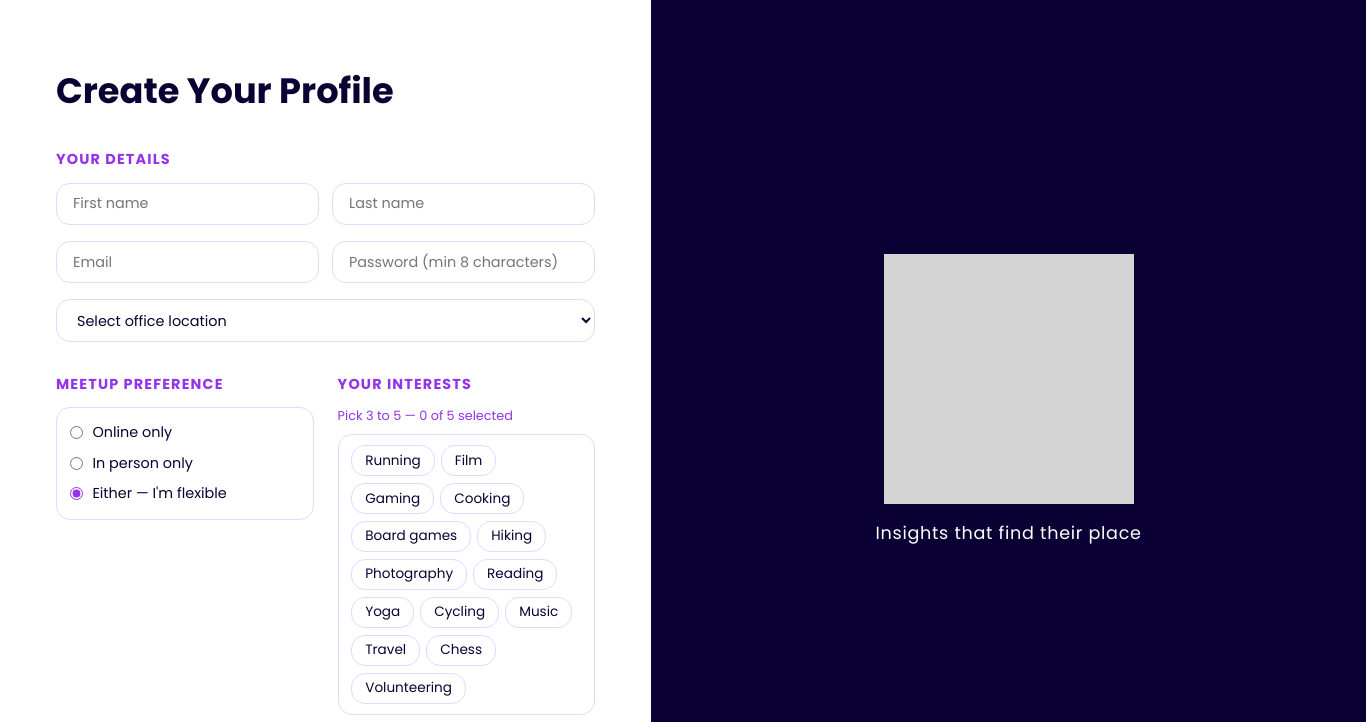
Test: SignUp component › shows error if password too short
The image size is (1366, 722).
Type "John" into the field with placeholder "First name" at x=188, y=204, box [56, 183, 319, 225]
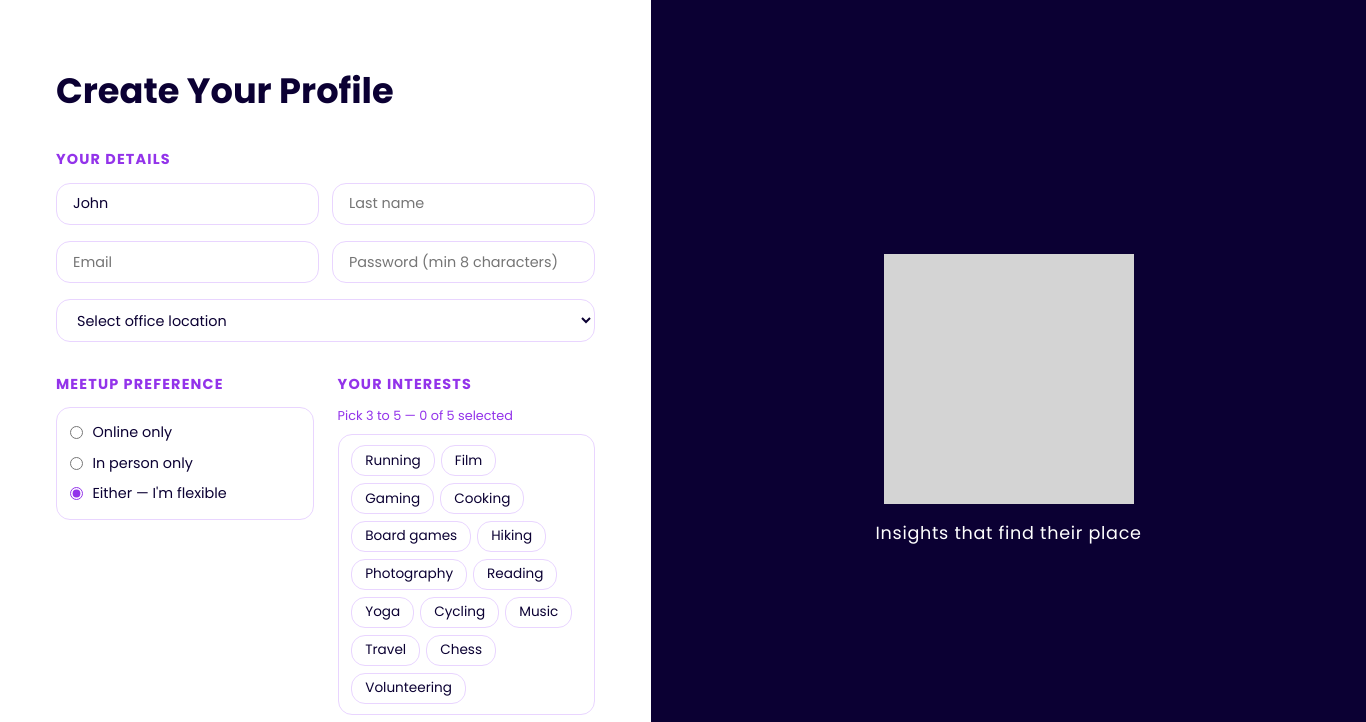
Type "Doe" into the field with placeholder "Last name" at x=464, y=204, box [332, 183, 595, 225]
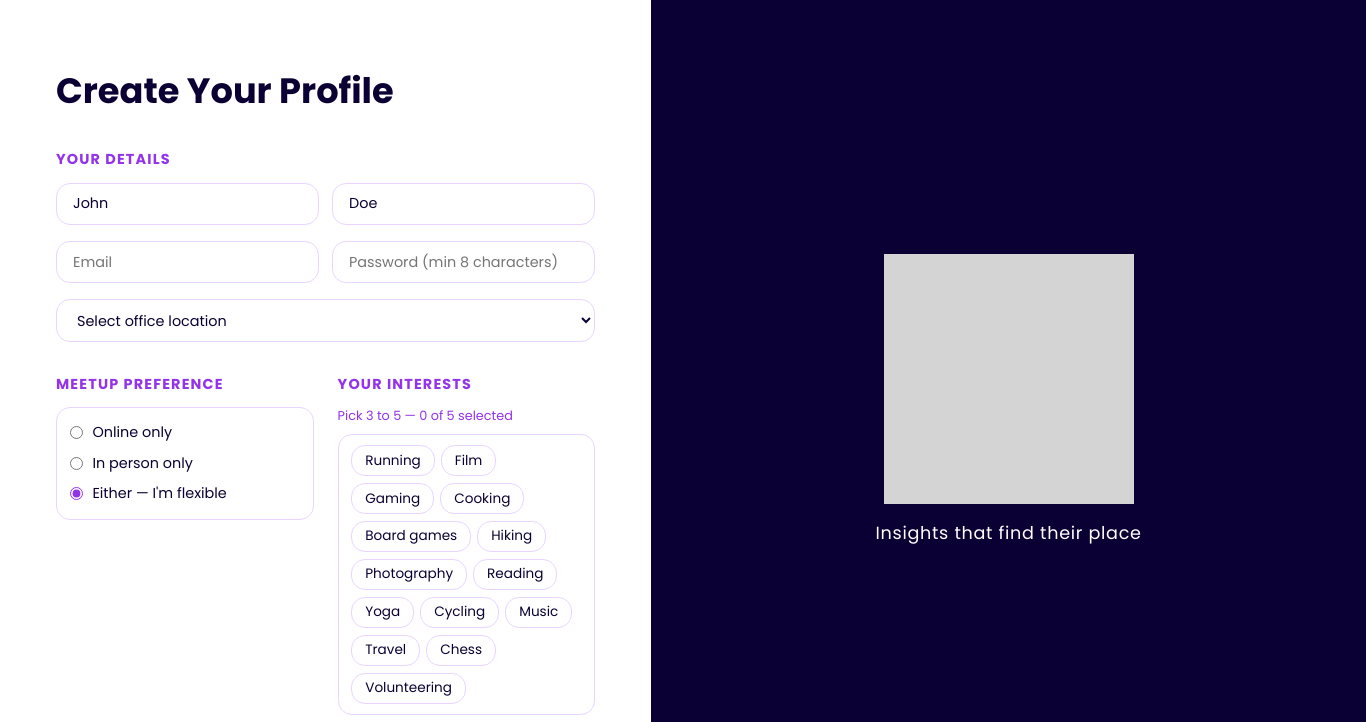
Type "john@test.com" into the field with placeholder "Email" at x=188, y=262, box [56, 241, 319, 283]
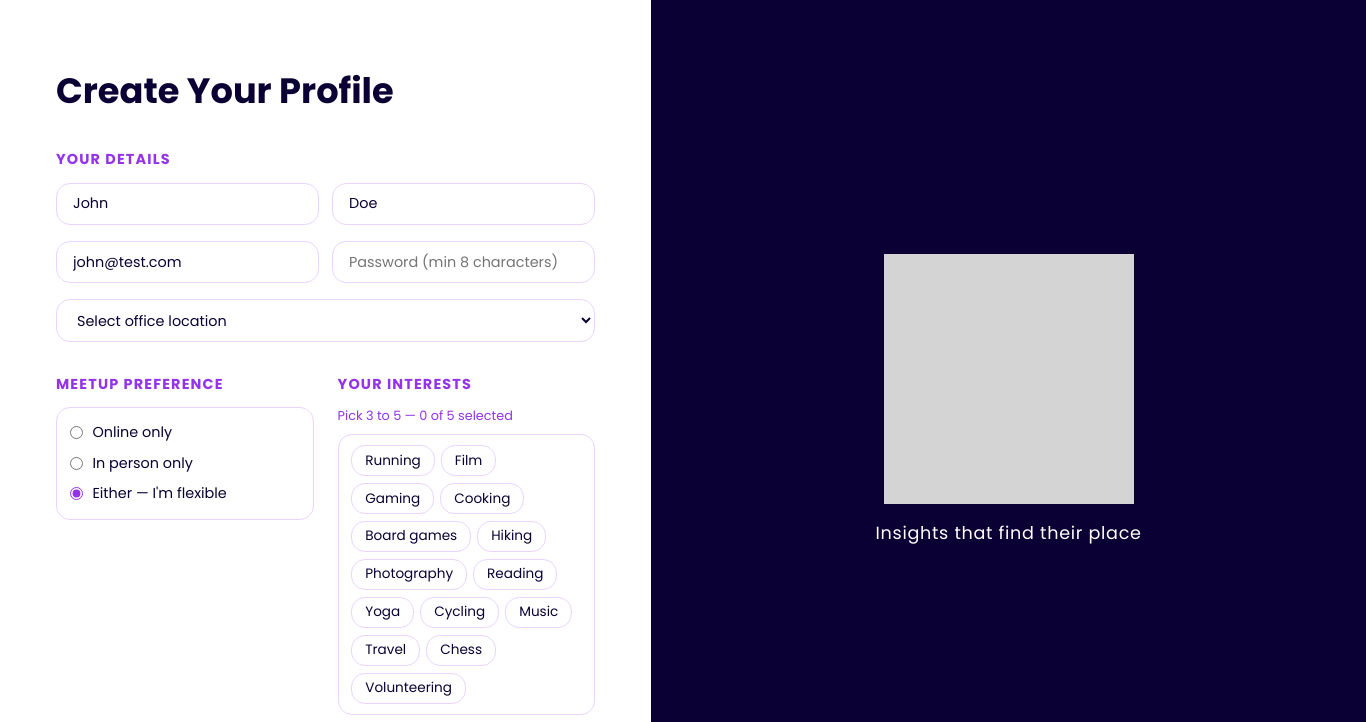
Type "123" into the password field with placeholder "Password (min 8 characters)" at x=464, y=262, box [332, 241, 595, 283]
(page scrolled)
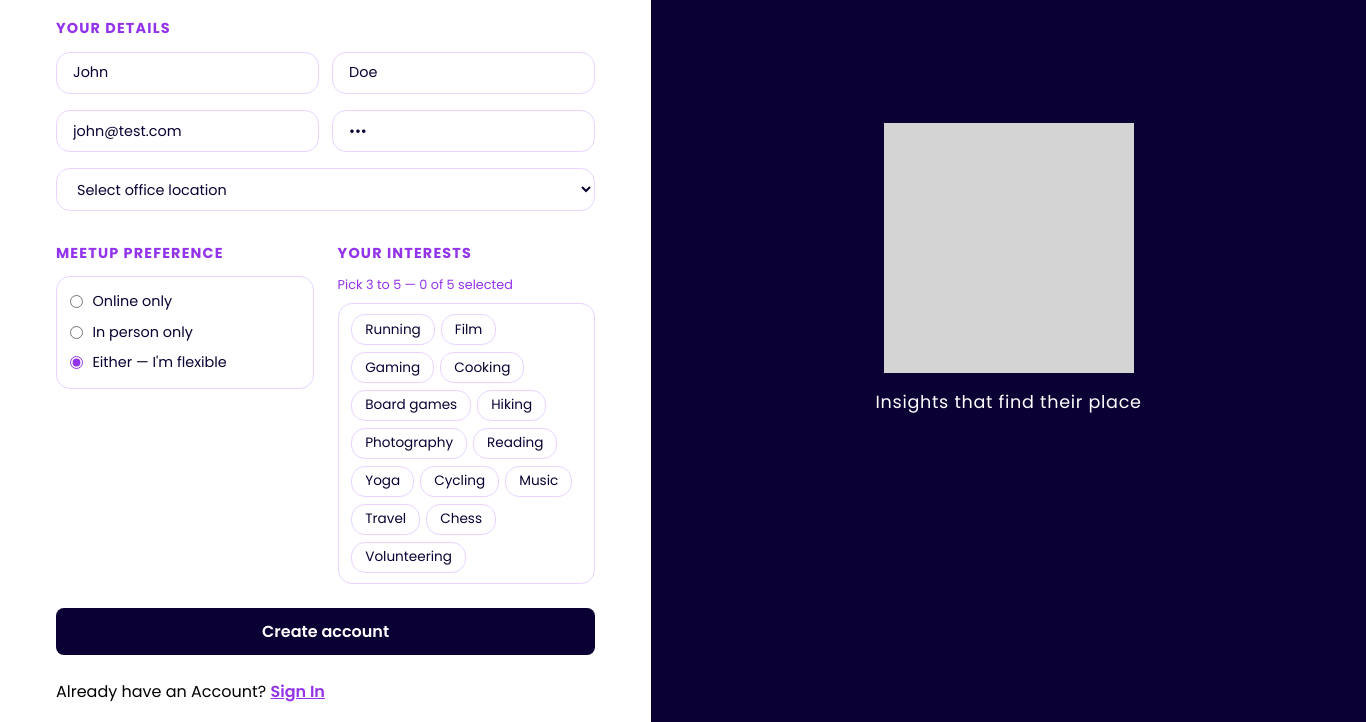
Click the button "Create account" at x=326, y=632, box [56, 608, 595, 655]
(page scrolled)
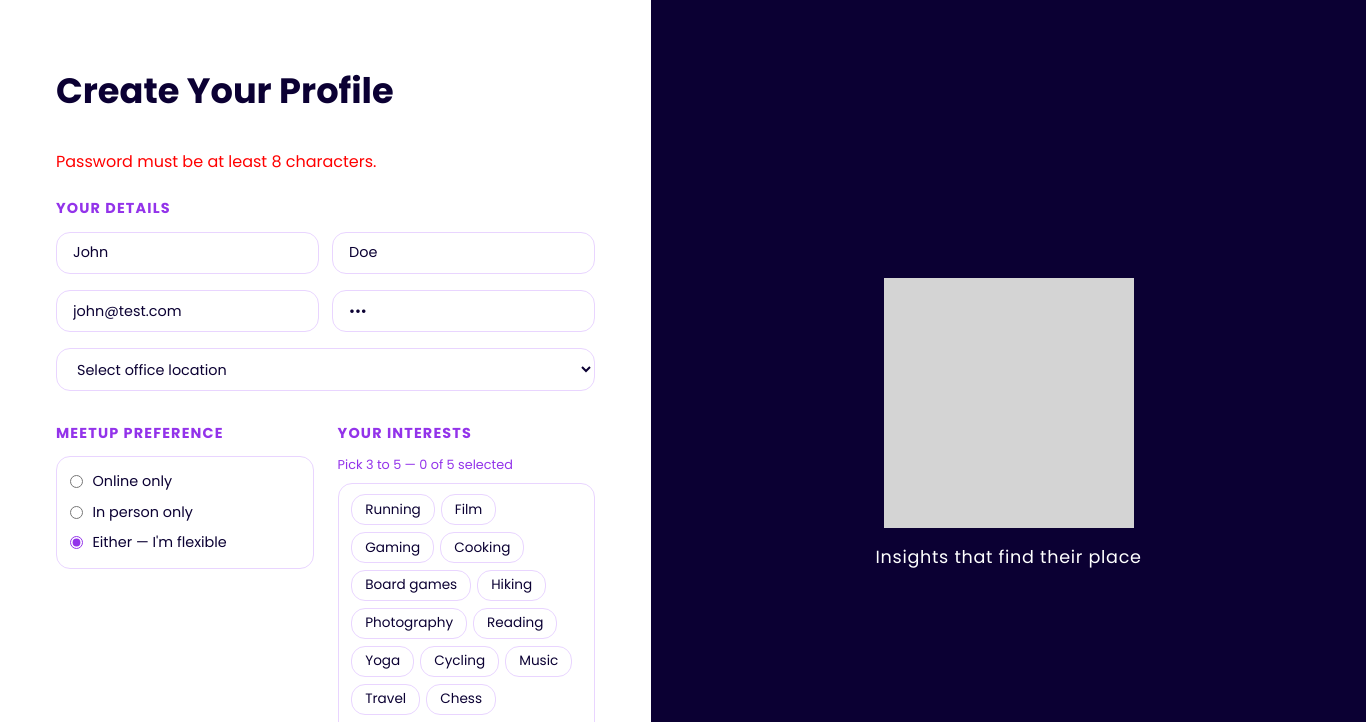
Check: the text "Password must be at least 8 characters." is shown, box [56, 150, 376, 173]
